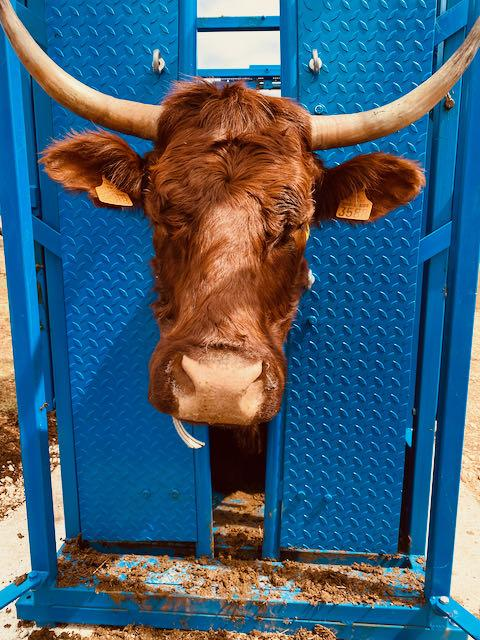muzzles: (140, 342, 287, 430)
